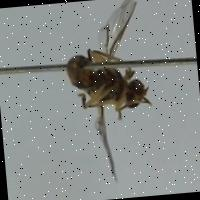Oriental-fruit-fly: (50, 0, 179, 193)
